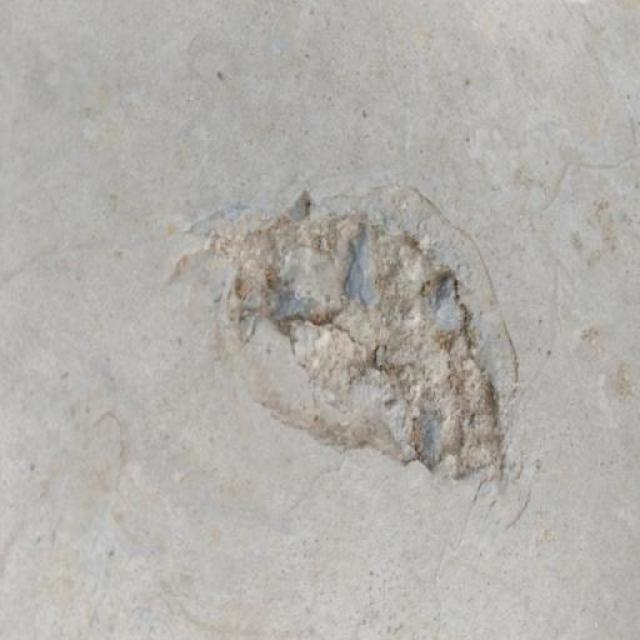D10: (201, 214, 500, 478)
